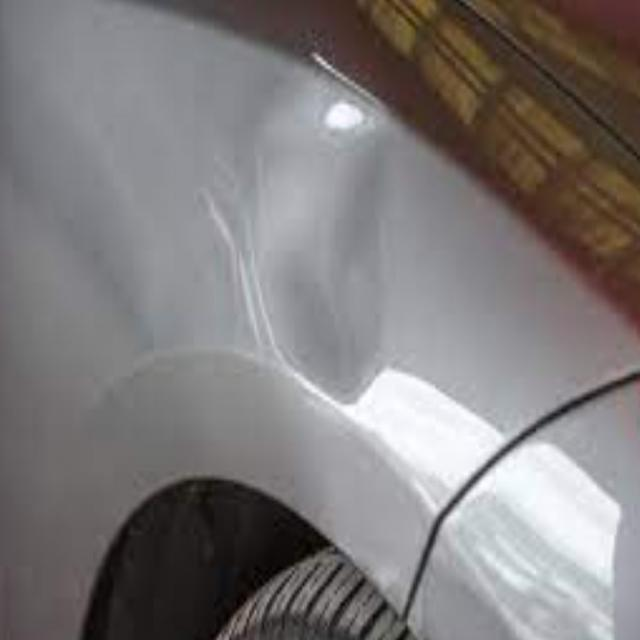dents: (221, 73, 417, 425)
